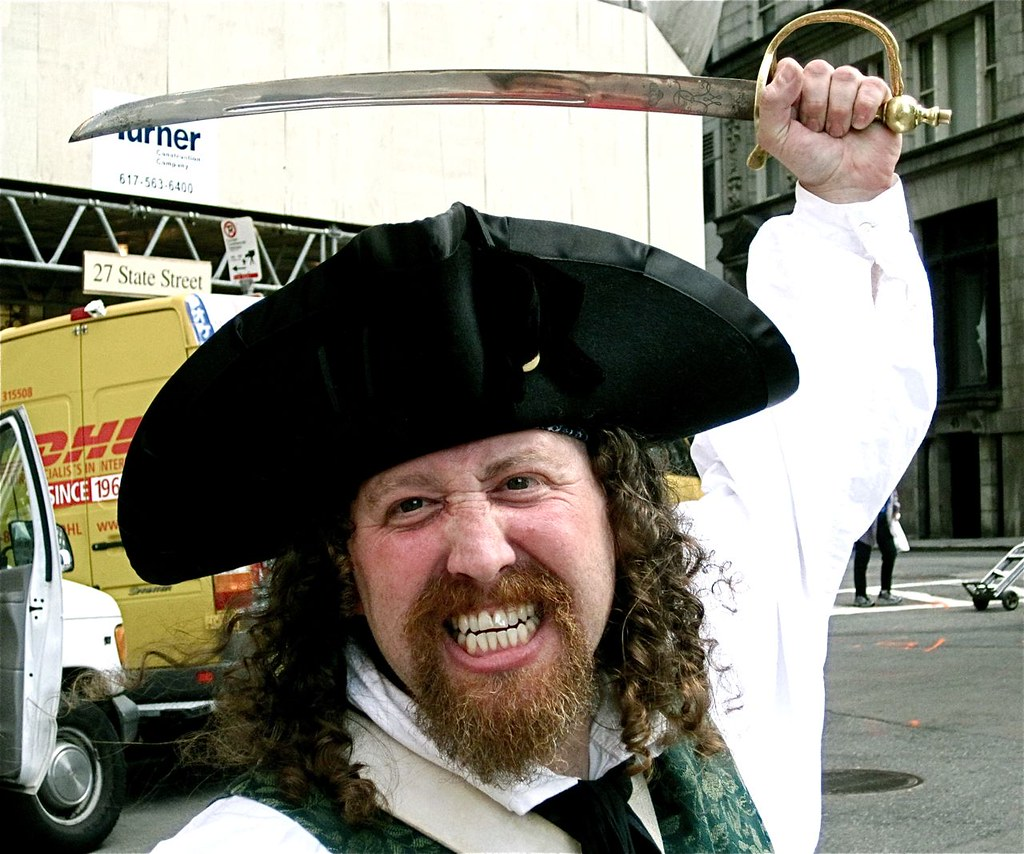knife: (71, 6, 979, 159)
person: (158, 60, 951, 854)
